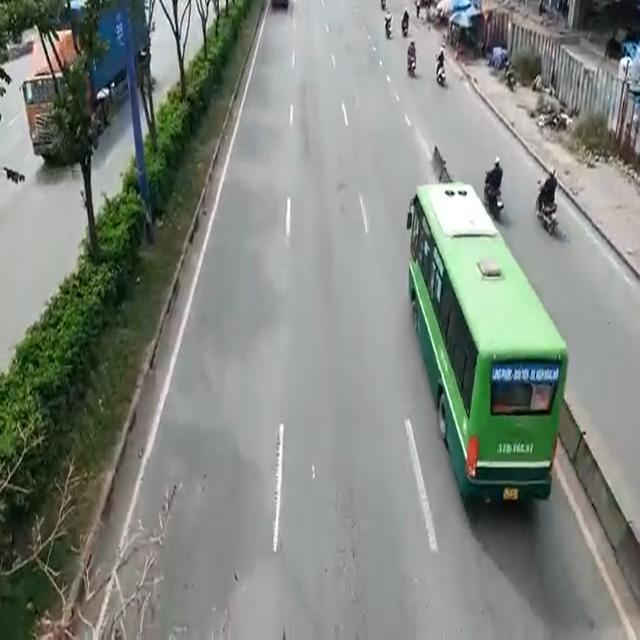bus: (412, 180, 566, 528)
car: (396, 180, 398, 184)
motor: (536, 165, 562, 237), (478, 153, 508, 211), (431, 46, 452, 92), (402, 34, 422, 82)
